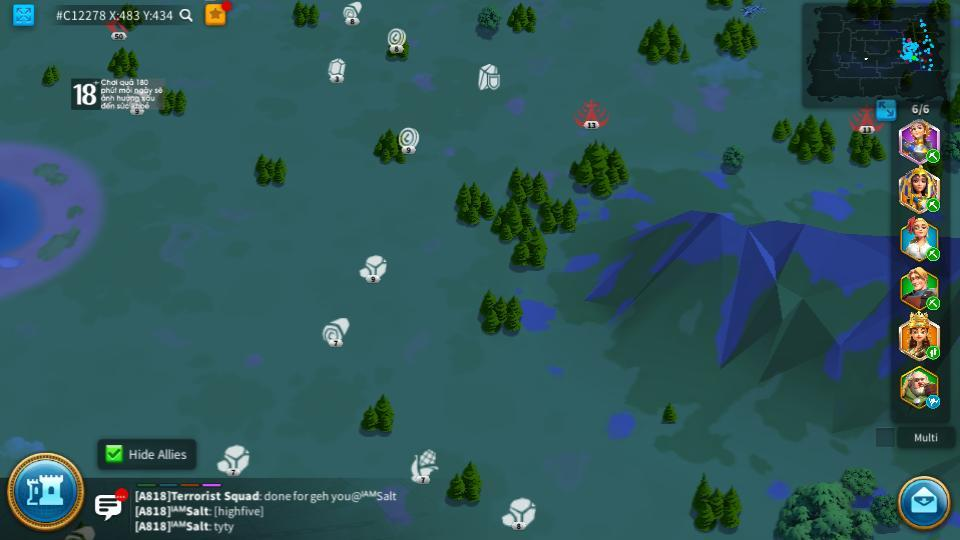gem-z-out: (361, 254, 386, 281), (326, 58, 346, 81)
march_idle: (925, 396, 942, 408)
march_marching: (925, 197, 941, 212), (925, 345, 941, 359), (925, 150, 942, 162), (924, 250, 942, 261), (925, 297, 942, 308)
